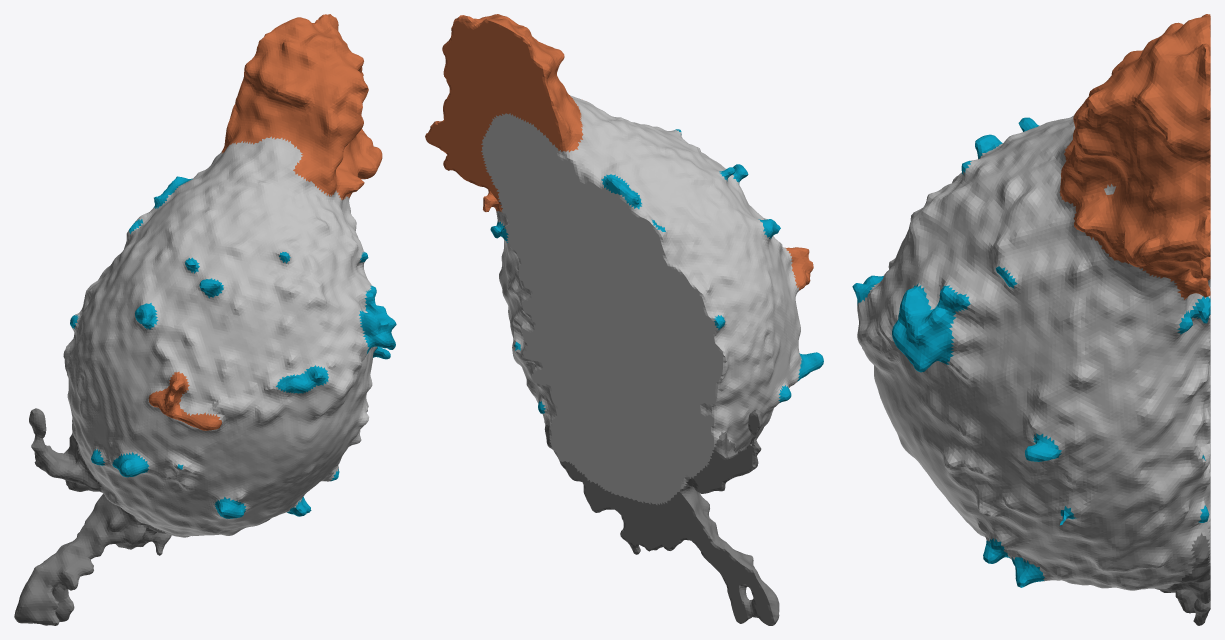
The picture shows the model from 3 angles, left to right: view 1: azimuth 30°, elevation 25°; view 2: azimuth 150°, elevation 25°; view 3: azimuth 270°, elevation 25°; orthographic projection. The views are drawn at different scales.
Bounding box in the file's own units: 115 × 170 × 72.74.
